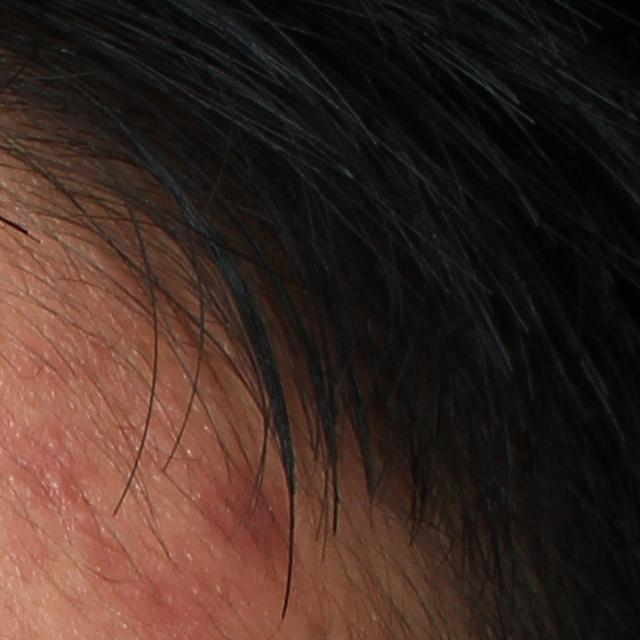papule: (44, 469, 64, 501)
